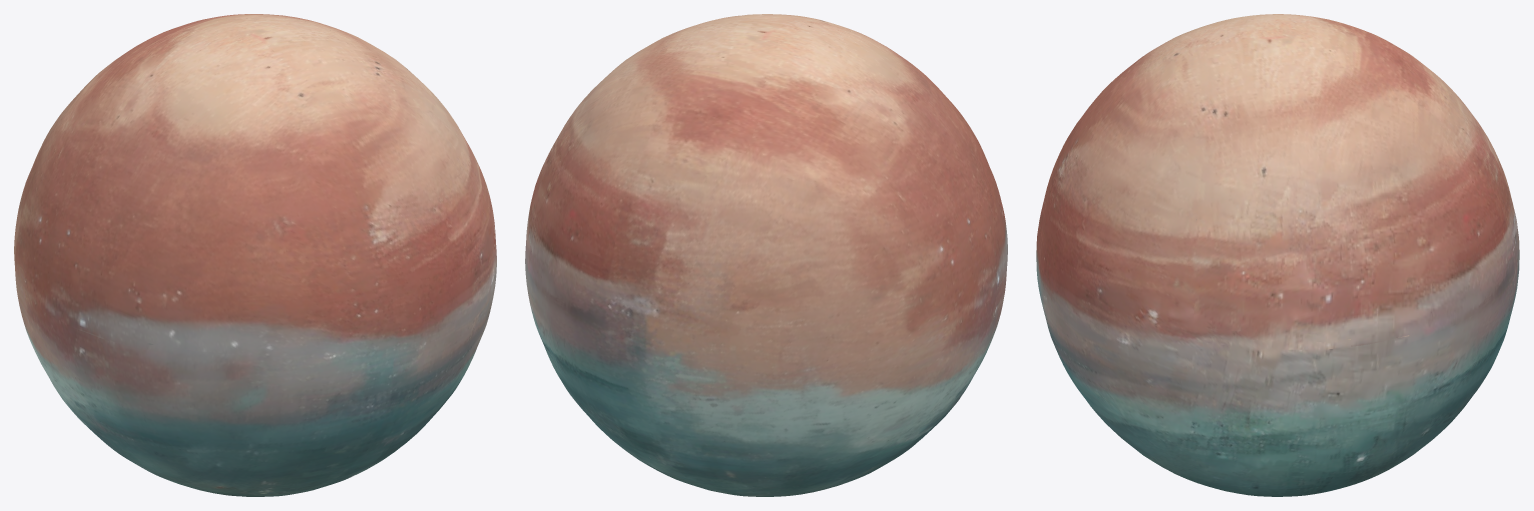
The model's file is base_basic_shaded.glb.
3 renders of one model, left to right at view 1: azimuth 30°, elevation 25°; view 2: azimuth 150°, elevation 25°; view 3: azimuth 270°, elevation 25°, orthographic.
Visible parts, largest first — view 1: model; view 2: model; view 3: model.
Part boxes in pixels (<box>): model: <box>14,14,496,496</box>; model: <box>525,14,1007,496</box>; model: <box>1036,14,1519,496</box>.
Bounding box in the file's own units: 1.9 × 1.9 × 1.9.
1 material, 1 textured.
